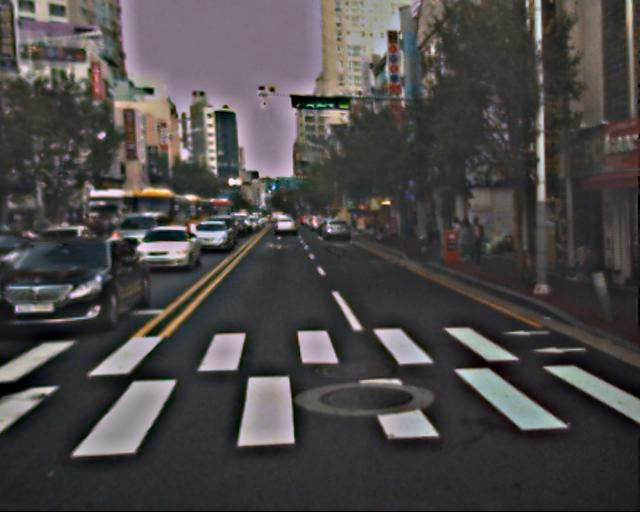person: (569, 239, 598, 279), (466, 218, 487, 270), (454, 221, 472, 265), (424, 214, 440, 253), (411, 213, 424, 244)
